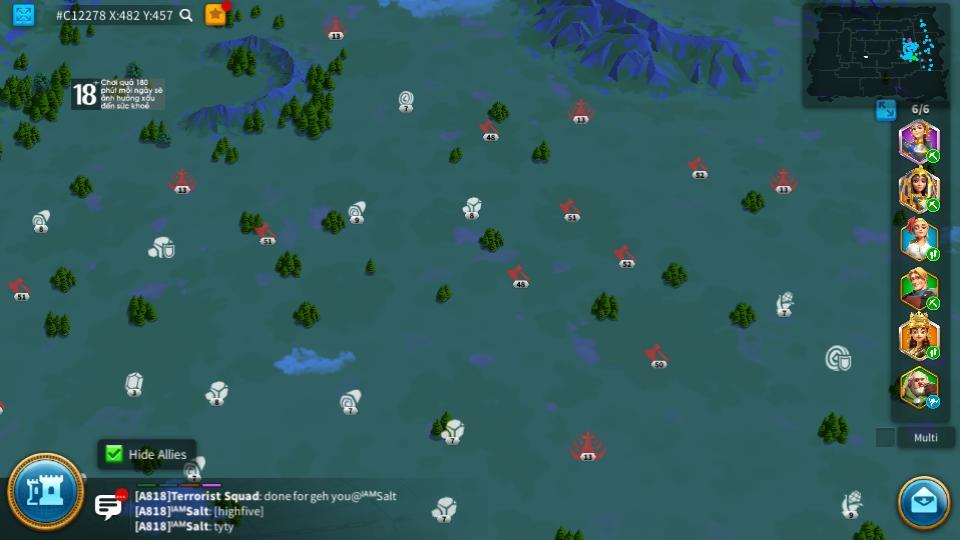gem-z-out: (122, 372, 144, 395)
march_idle: (925, 396, 942, 410)
march_marching: (925, 197, 941, 212), (924, 248, 942, 260), (925, 347, 941, 359), (925, 150, 941, 162), (925, 297, 941, 308)
